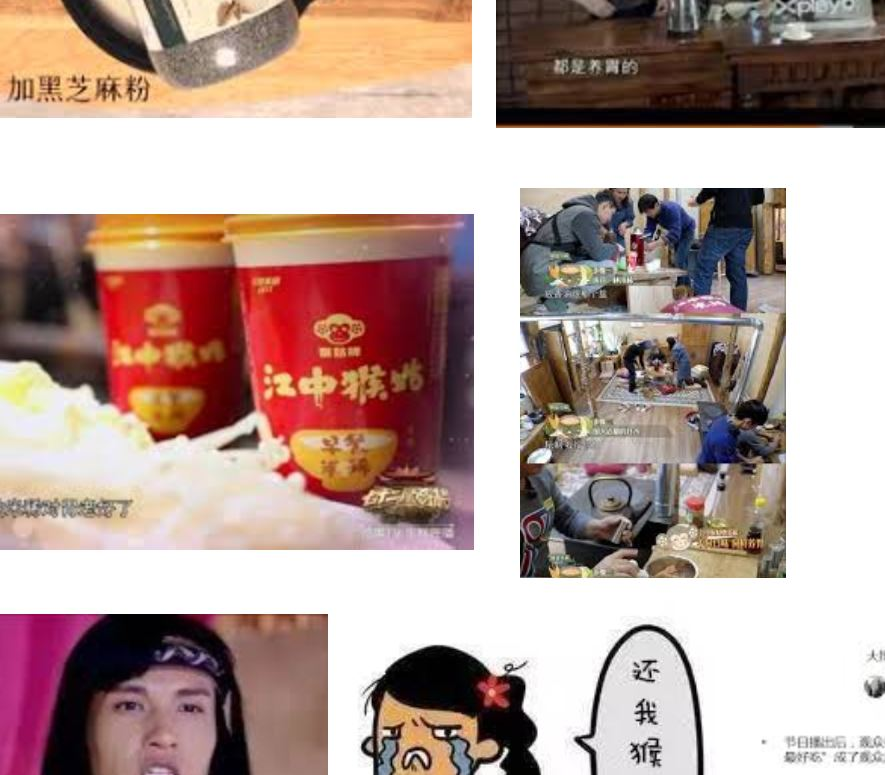cup: (228, 217, 460, 508), (91, 215, 232, 435)
